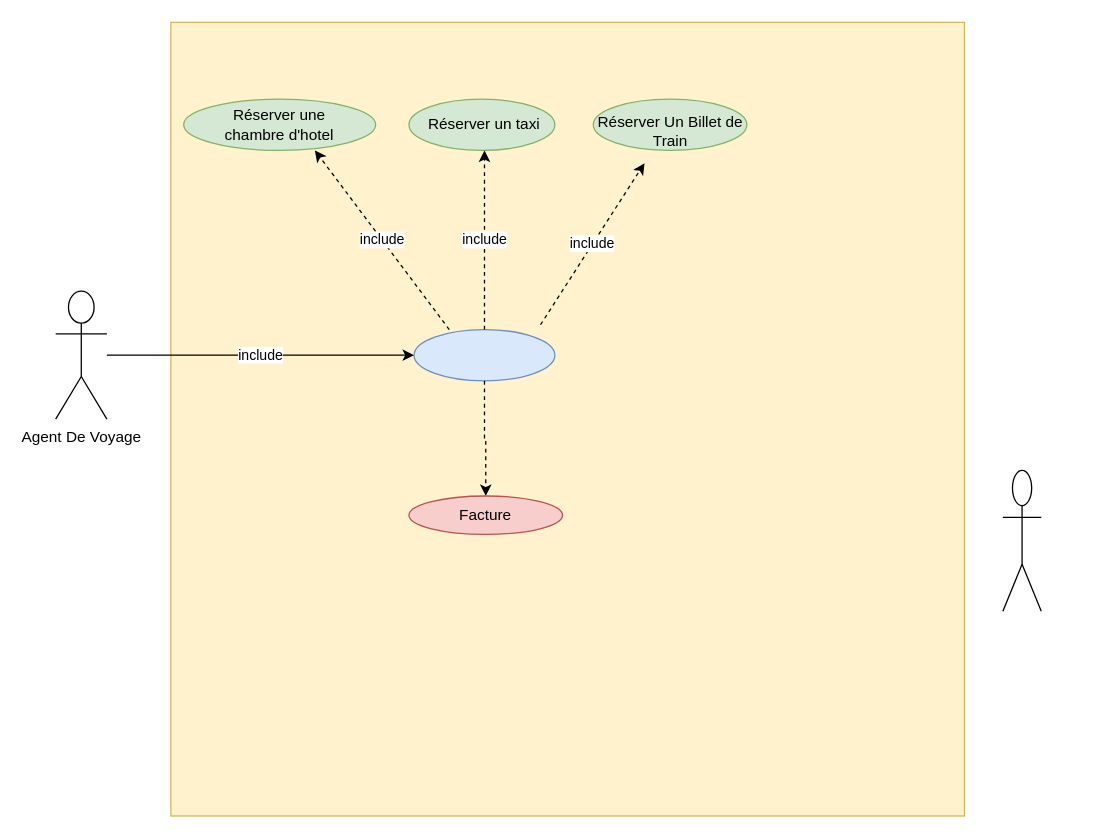
This 1108x838 diagram has some shape labels left out. Here are the shapes that lost their labels. From the top down, the centre of each, then its label:
point 484,354: Organiser un Voyage
point 1021,540: Dericteur d'agence
